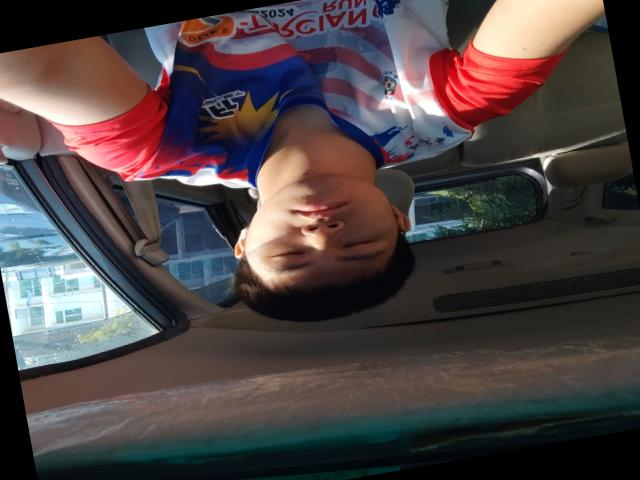eye_closed: (334, 230, 386, 253), (264, 243, 312, 266)
face: (234, 163, 406, 294)
